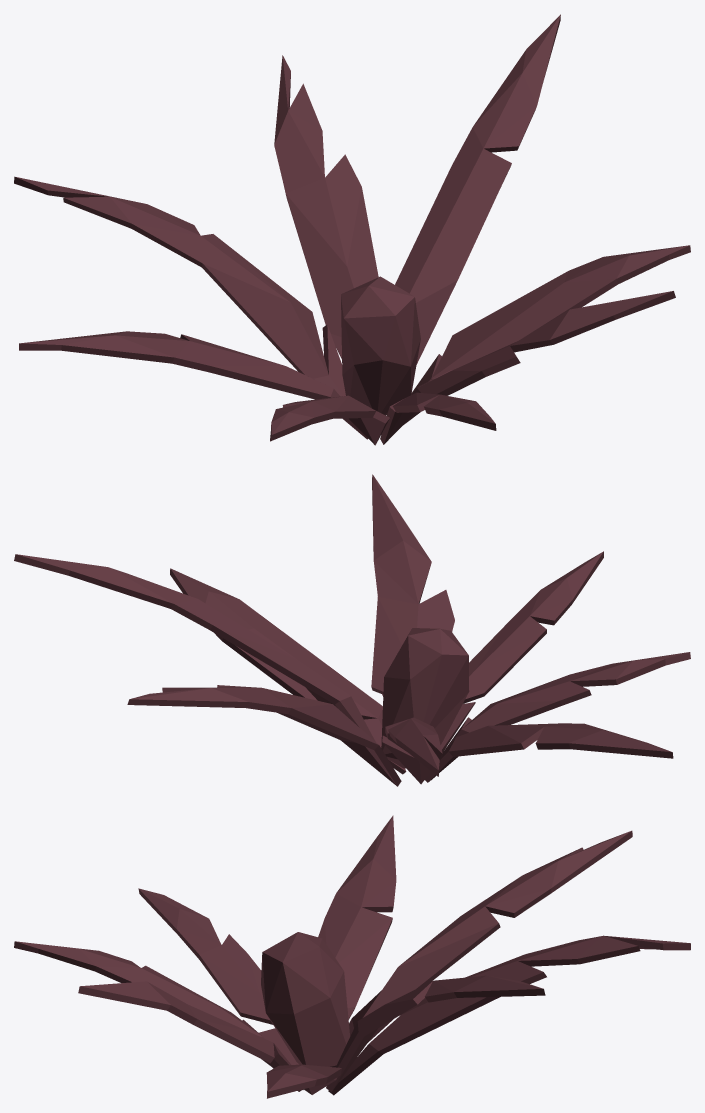
The model's file is SM_Bush_Prehistoric.fbx.
3 renders of one model, top to bottom at view 1: azimuth 30°, elevation 25°; view 2: azimuth 150°, elevation 25°; view 3: azimuth 270°, elevation 25°, orthographic. The views are drawn at different scales.
Visible parts, largest first — view 1: SM_Bush_Prehistoric; view 2: SM_Bush_Prehistoric; view 3: SM_Bush_Prehistoric.
Part boxes in pixels (bbox=[...]): SM_Bush_Prehistoric: bbox=[14, 14, 690, 445]; SM_Bush_Prehistoric: bbox=[14, 474, 690, 786]; SM_Bush_Prehistoric: bbox=[14, 815, 690, 1098].
Bounding box in the file's own units: 2.03 × 0.8119 × 2.04.
